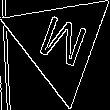M_S: (31, 11, 89, 75)
